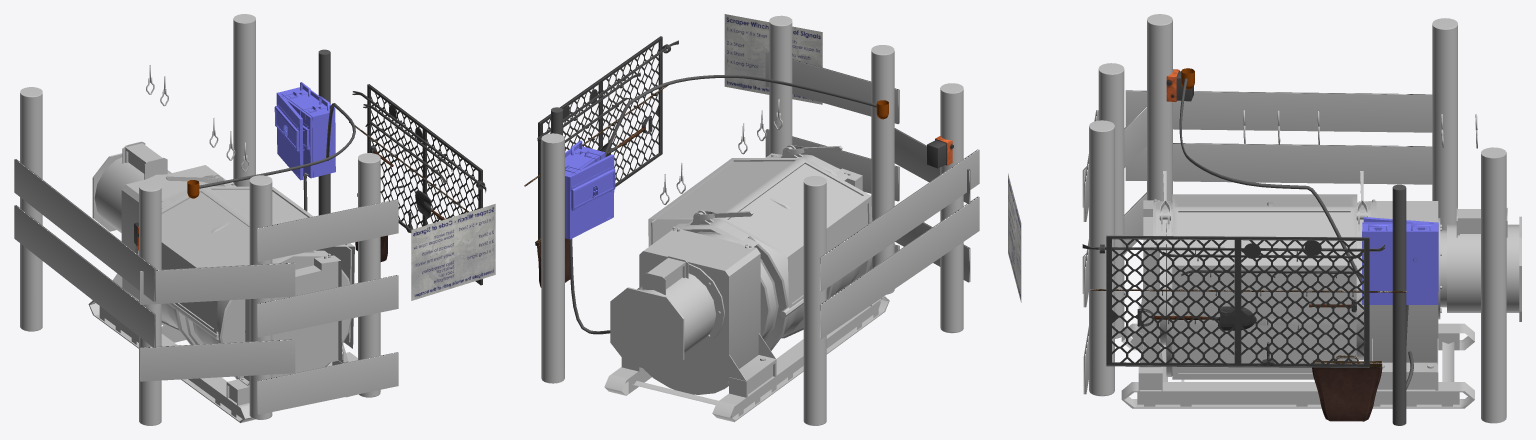
Rendered from Centre Guley Winch.fbx.
3 views of the same model, side by side, from view 1: azimuth 30°, elevation 25°; view 2: azimuth 150°, elevation 25°; view 3: azimuth 270°, elevation 25° (orthographic). The views are drawn at different scales.
Visible parts, largest first — view 1: Winch, Winch_005, Tool_rack_001__1_, Code_of_signals, Wood_barricades_022, Wood_barricades_023, Wood_barricades_021, Wood_barricades_020, Wood_barricades_025, Wood_barricades_026, Wood_barricades_024, Wood_barricades_009 (+8 smaller); view 2: Winch, Winch_005, Tool_rack_001__1_, Cylinder_010, Wood_barricades_021, Wood_barricades_020, Wood_barricades_009, Code_of_signals, Wood_barricades_018, Wood_barricades_017, Power_box_not_locked__Hazard_, Wood_barricades_019 (+8 smaller); view 3: Winch, Winch_005, Tool_rack_001__1_, Wood_barricades_021, Wood_barricades_020, Cylinder_010, Wood_barricades_019, Wood_barricades_009, Wood_barricades_017, Power_box_not_locked__Hazard_, Cylinder, Wood_barricades_018 (+6 smaller).
Boxes of the visible parts, bbox=[...] form: Winch: bbox=[88, 141, 357, 422]; Winch_005: bbox=[135, 186, 354, 348]; Tool_rack_001__1_: bbox=[349, 84, 486, 285]; Code_of_signals: bbox=[411, 204, 495, 300]; Wood_barricades_022: bbox=[140, 339, 295, 381]; Wood_barricades_023: bbox=[140, 262, 295, 304]; Wood_barricades_021: bbox=[14, 205, 155, 347]; Wood_barricades_020: bbox=[14, 159, 155, 301]; Wood_barricades_025: bbox=[257, 352, 398, 414]; Wood_barricades_026: bbox=[257, 199, 398, 261]; Wood_barricades_024: bbox=[257, 275, 398, 337]; Wood_barricades_009: bbox=[20, 87, 42, 331]; Winch: bbox=[604, 145, 889, 422]; Winch_005: bbox=[648, 158, 872, 308]; Tool_rack_001__1_: bbox=[524, 36, 678, 287]; Cylinder_010: bbox=[541, 133, 564, 383]; Wood_barricades_021: bbox=[819, 196, 979, 338]; Wood_barricades_020: bbox=[819, 149, 979, 291]; Wood_barricades_009: bbox=[803, 176, 826, 425]; Code_of_signals: bbox=[724, 14, 822, 104]; Wood_barricades_018: bbox=[871, 45, 894, 294]; Wood_barricades_017: bbox=[940, 83, 963, 333]; Power_box_not_locked__Hazard_: bbox=[565, 141, 615, 239]; Wood_barricades_019: bbox=[769, 15, 792, 154]; Winch: bbox=[1121, 171, 1521, 408]; Winch_005: bbox=[1172, 194, 1357, 379]; Tool_rack_001__1_: bbox=[1082, 235, 1406, 421]; Wood_barricades_021: bbox=[1125, 143, 1432, 184]; Wood_barricades_020: bbox=[1125, 90, 1432, 132]; Cylinder_010: bbox=[1481, 147, 1506, 423]; Wood_barricades_019: bbox=[1089, 120, 1114, 396]; Wood_barricades_009: bbox=[1432, 18, 1457, 230]; Wood_barricades_017: bbox=[1147, 14, 1172, 202]; Power_box_not_locked__Hazard_: bbox=[1362, 217, 1438, 304]; Cylinder: bbox=[1392, 184, 1406, 425]; Wood_barricades_018: bbox=[1098, 63, 1124, 338].
Size of the model in its own units: 258 by 185 by 310.
